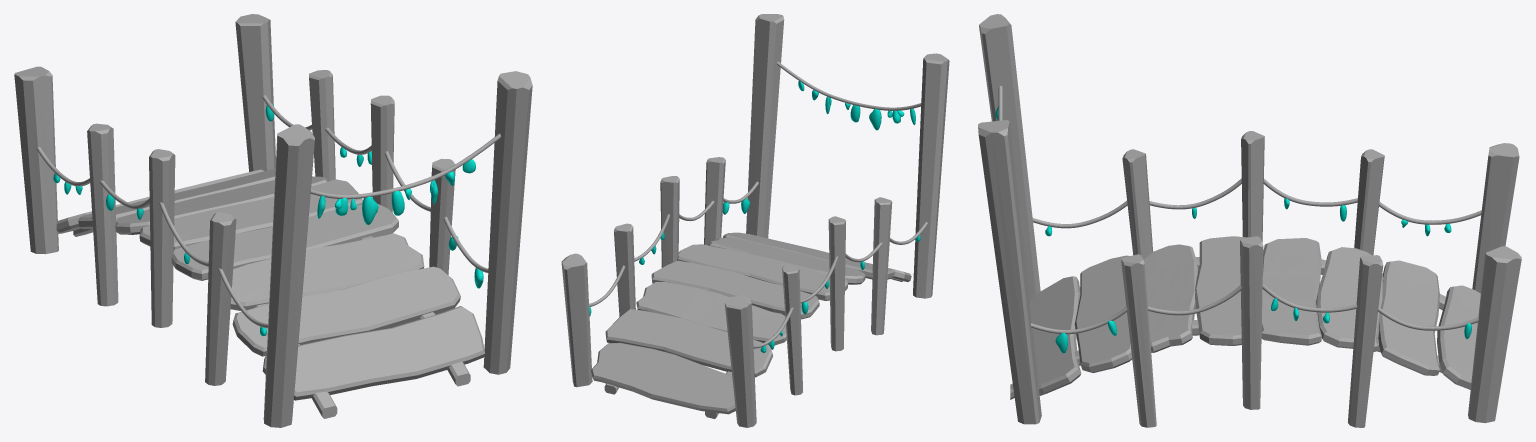
The model's file is Complete_Bridge_Untextured.fbx.
3 views of the same model, side by side, from view 1: azimuth 30°, elevation 25°; view 2: azimuth 150°, elevation 25°; view 3: azimuth 270°, elevation 25° (orthographic). The views are drawn at different scales.
Parts seen in each view (by area): view 1: bridge_complete, glow_rocks_bridge_complete; view 2: bridge_complete, glow_rocks_bridge_complete; view 3: bridge_complete, glow_rocks_bridge_complete.
Boxes of the visible parts, left/top/right/bottom form: bridge_complete: left=14, top=14, right=532, bottom=427; glow_rocks_bridge_complete: left=53, top=103, right=483, bottom=336; bridge_complete: left=561, top=14, right=949, bottom=427; glow_rocks_bridge_complete: left=589, top=81, right=920, bottom=352; bridge_complete: left=978, top=14, right=1521, bottom=427; glow_rocks_bridge_complete: left=995, top=106, right=1471, bottom=353.
Size of the model in its own units: 203 by 239 by 392.
